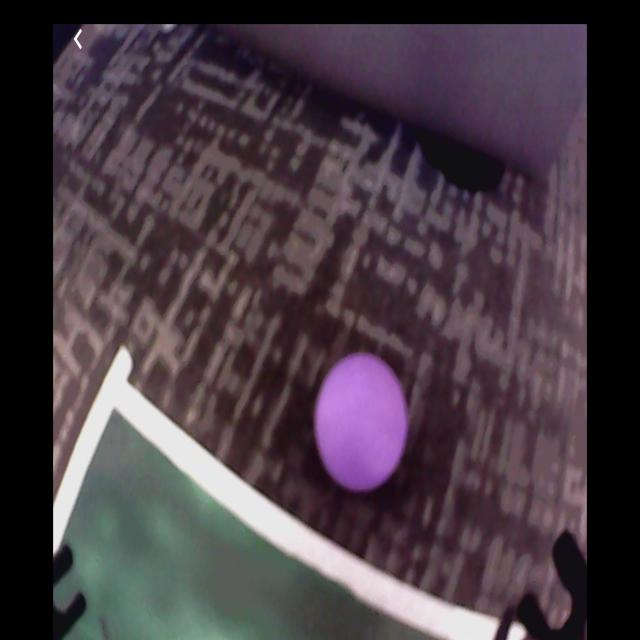ball: (316, 357, 413, 491)
